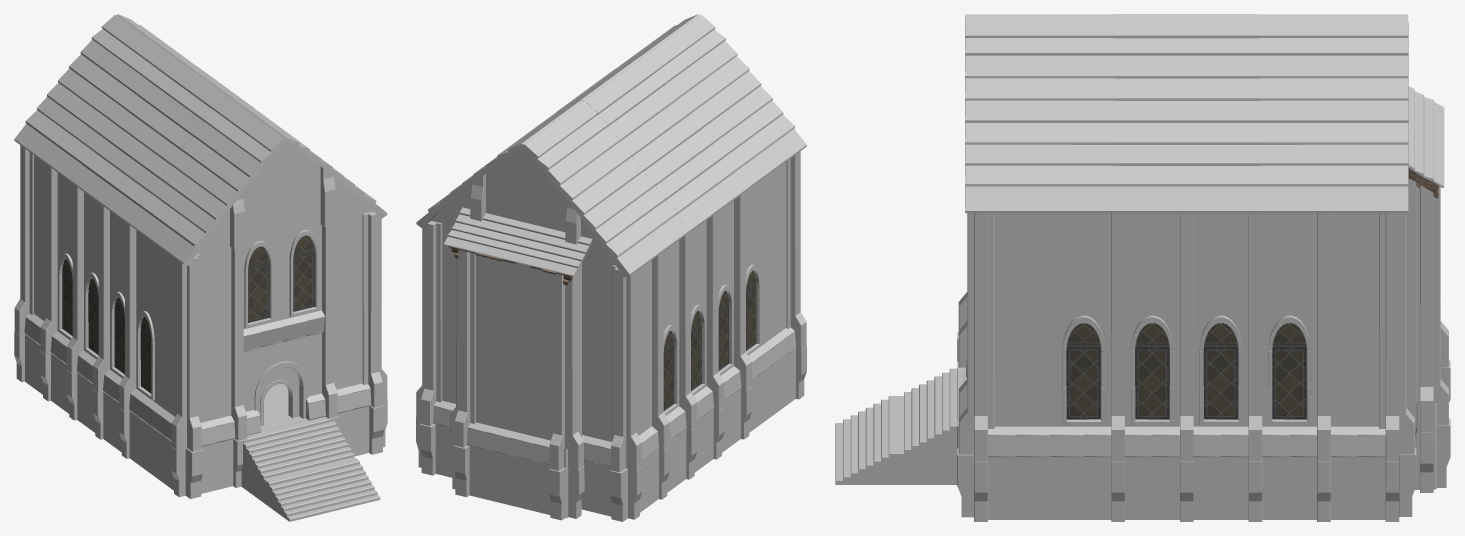
The model's file is Chapel_1A1.fbx.
3 views of the same model, side by side, from view 1: azimuth 30°, elevation 25°; view 2: azimuth 150°, elevation 25°; view 3: azimuth 270°, elevation 25° (orthographic). The views are drawn at different scales.
Visible parts, largest first — view 1: Chapel_1A1, Chapel_Windows; view 2: Chapel_1A1, Chapel_Windows; view 3: Chapel_1A1, Chapel_Windows.
Boxes of the visible parts, x1,y1,x2,y2 form: Chapel_1A1: (14, 14, 387, 521); Chapel_Windows: (62, 235, 314, 393); Chapel_1A1: (416, 14, 806, 521); Chapel_Windows: (663, 271, 756, 410); Chapel_1A1: (835, 14, 1450, 521); Chapel_Windows: (1066, 323, 1306, 419).
Size of the model in its own units: 1866 by 2850 by 3589.
